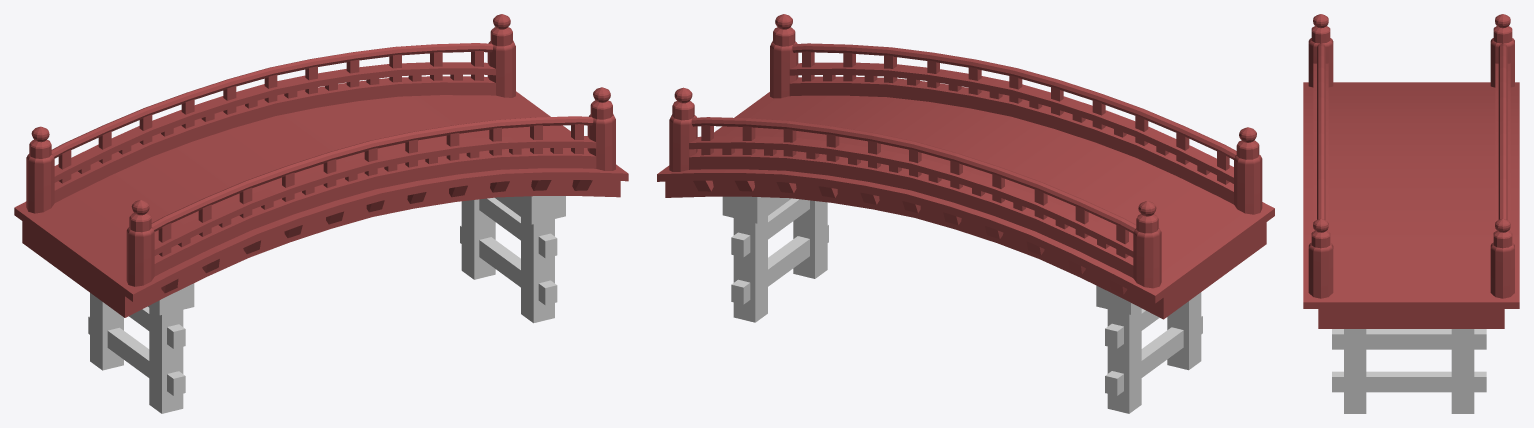
Rendered from Bridge FBX.fbx.
3 renders of one model, left to right at view 1: azimuth 30°, elevation 25°; view 2: azimuth 150°, elevation 25°; view 3: azimuth 270°, elevation 25°, orthographic. The views are drawn at different scales.
Visible parts, largest first — view 1: Bridge; view 2: Bridge; view 3: Bridge.
Part boxes in pixels (x1,y1,x2,y2): Bridge: [14, 14, 628, 413]; Bridge: [657, 14, 1274, 413]; Bridge: [1303, 14, 1519, 413].
Size of the model in its own units: 1351 by 610 by 561.
